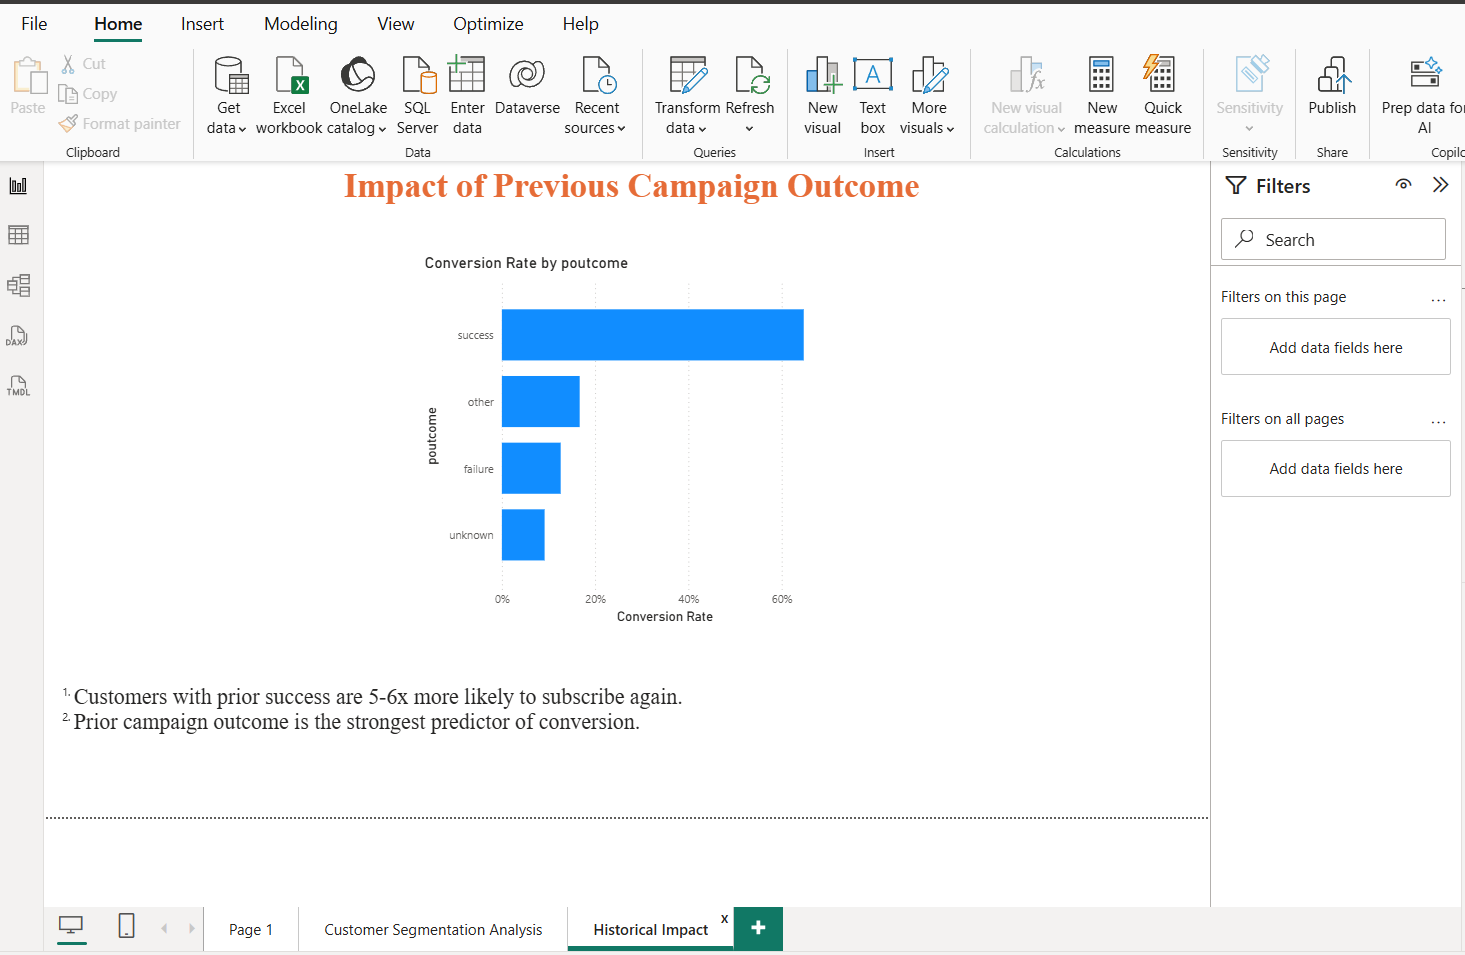

The page's visual inventory and layout, read from the dashboard file:
{"tool":"powerbi","page":{"name":"Historical Impact","canvas":[1280,720],"ordinal":2},"visuals":[{"type":"textbox","box":[9.6,0,1270.7,59],"z":0},{"type":"clusteredBarChart","fields":{"Category":["raw_bank_marketing.poutcome"],"Y":["raw_bank_marketing.Conversion Rate"]},"box":[413,101.5,465.2,411.7],"z":1},{"type":"textbox","box":[9.6,569.5,1270.7,87.8],"z":2}]}

Visuals, with their boxes on the page's 1280x720 design canvas (x1, y1, x2, y2). These are canvas units, not pixel positions in the 1465x955 screenshot, which may show the page scaled, cropped or inside an application window:
textbox: l=10, t=0, r=1280, b=59
clusteredBarChart - raw_bank_marketing.poutcome x raw_bank_marketing.Conversion Rate: l=413, t=102, r=878, b=513
textbox: l=10, t=570, r=1280, b=657
